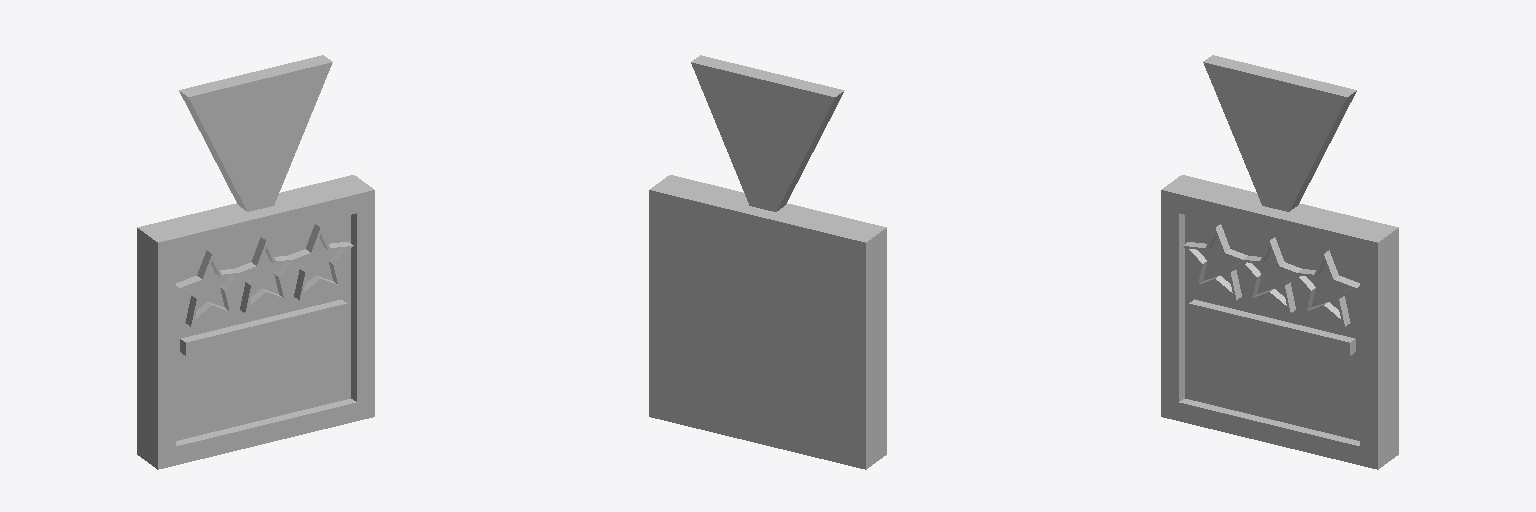
Rendered from ui_medal.obj.
3 renders of one model, left to right at view 1: azimuth 30°, elevation 25°; view 2: azimuth 150°, elevation 25°; view 3: azimuth 330°, elevation 25°, orthographic.
Parts seen in each view (by area): view 1: pCube4, pCube2, pCylinder1, pCylinder4, pCylinder3; view 2: pCube4, pCube2; view 3: pCube4, pCube2, pCylinder1, pCylinder4, pCylinder3.
Part boxes in pixels (left/top/right/bottom): pCube4: left=137, top=175, right=374, bottom=469; pCube2: left=179, top=55, right=332, bottom=211; pCylinder1: left=176, top=250, right=244, bottom=326; pCylinder4: left=288, top=224, right=353, bottom=299; pCylinder3: left=235, top=237, right=298, bottom=312; pCube4: left=649, top=175, right=886, bottom=469; pCube2: left=691, top=55, right=844, bottom=211; pCube4: left=1161, top=175, right=1398, bottom=469; pCube2: left=1203, top=55, right=1356, bottom=211; pCylinder1: left=1183, top=224, right=1247, bottom=299; pCylinder4: left=1292, top=250, right=1359, bottom=326; pCylinder3: left=1238, top=237, right=1301, bottom=312.
Size of the model in its own units: 0.6 by 0.95 by 0.1.